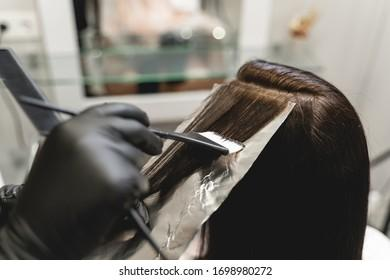gloves: (1, 104, 164, 262)
